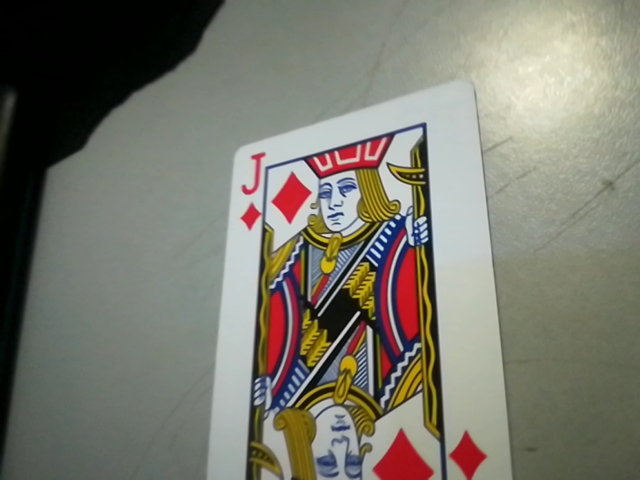fk j: (224, 147, 270, 229)
